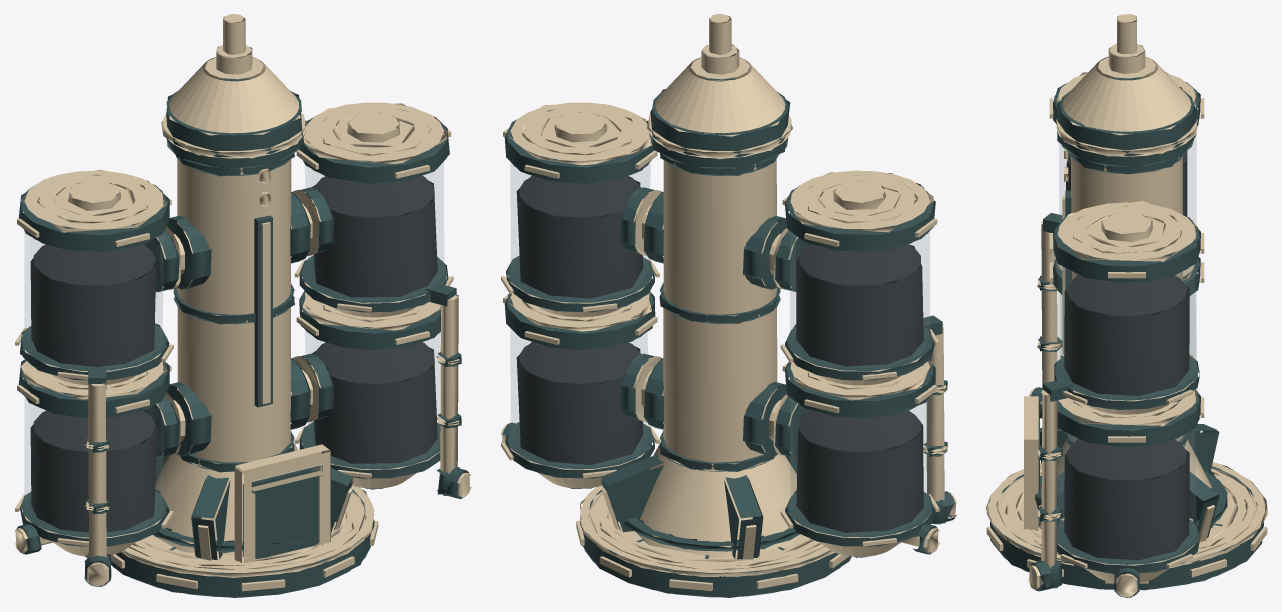
Rendered from Vat_T3_lab2.glb.
3 renders of one model, left to right at view 1: azimuth 30°, elevation 25°; view 2: azimuth 150°, elevation 25°; view 3: azimuth 270°, elevation 25°, orthographic.
Parts seen in each view (by area): view 1: Vat_T3; view 2: Vat_T3; view 3: Vat_T3.
Boxes of the visible parts, box(x1,y1,x2,y2) form: Vat_T3: box(14, 14, 471, 597); Vat_T3: box(500, 14, 957, 597); Vat_T3: box(986, 14, 1267, 597).
Size of the model in its own units: 6.75 by 7.91 by 3.89.
